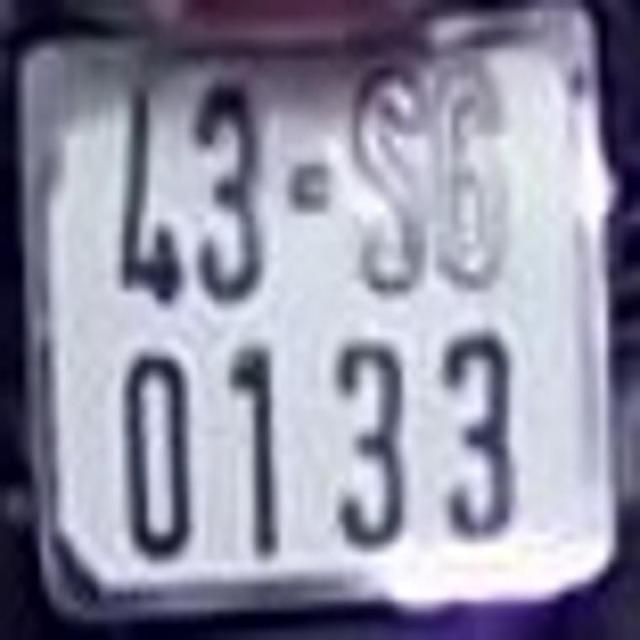0: (124, 345, 194, 552)
1: (232, 344, 283, 555)
3: (321, 332, 408, 540), (430, 329, 516, 537), (190, 85, 264, 308)
4: (120, 94, 181, 300)
6: (436, 71, 507, 281)
S: (352, 74, 427, 290)
